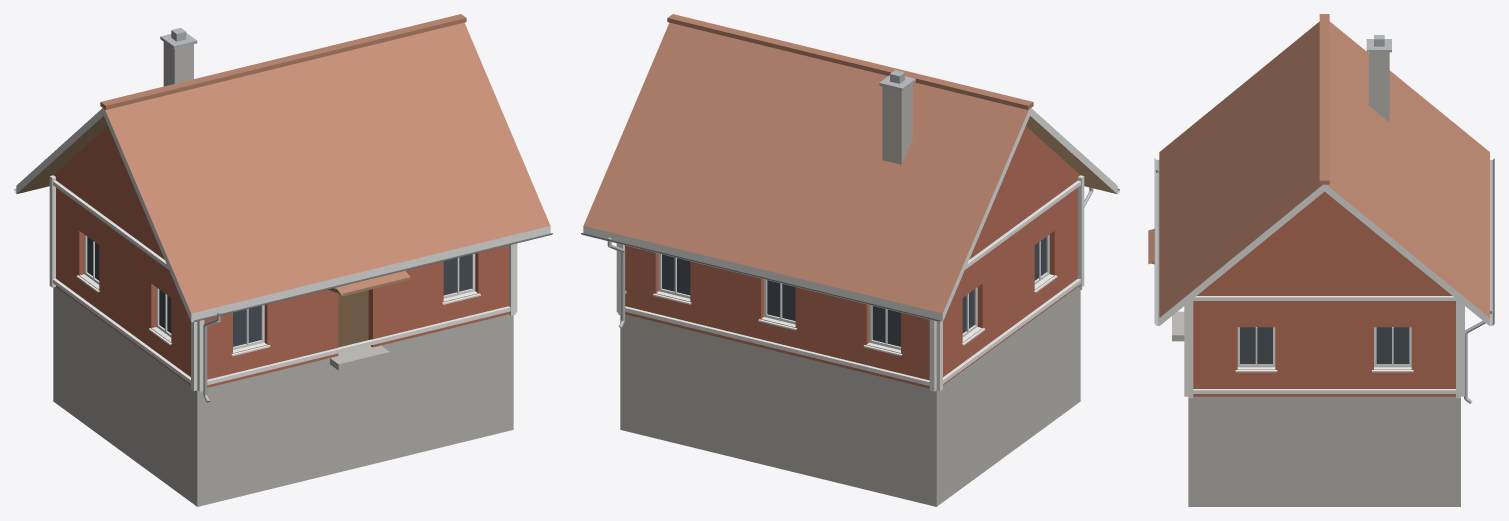
Rendered from nordic_house_1_s.glb.
3 views of the same model, side by side, from view 1: azimuth 30°, elevation 25°; view 2: azimuth 150°, elevation 25°; view 3: azimuth 270°, elevation 25° (orthographic). The views are drawn at different scales.
Visible parts, largest first — view 1: nordic_house_1_s; view 2: nordic_house_1_s; view 3: nordic_house_1_s.
Boxes of the visible parts, x1=… form: nordic_house_1_s: x1=14, y1=14, x2=552, y2=506; nordic_house_1_s: x1=581, y1=14, x2=1119, y2=506; nordic_house_1_s: x1=1148, y1=14, x2=1494, y2=506.
Bounding box in the file's own units: 10.84 × 10.98 × 9.53.
